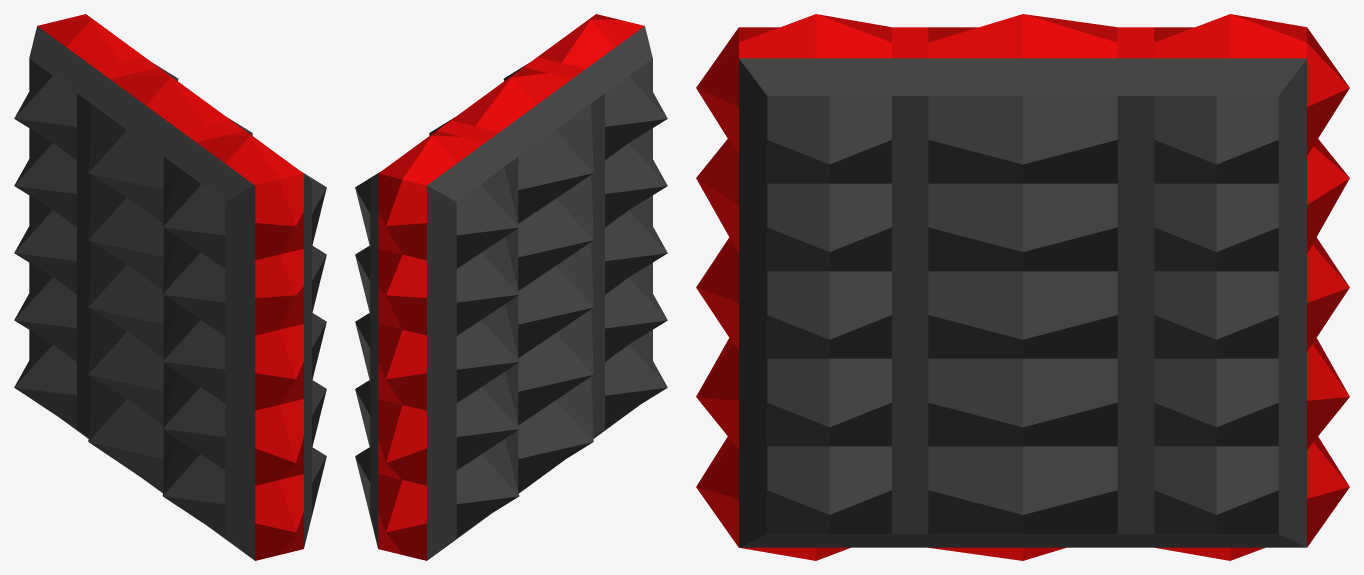
Rendered from Spiked Wall.fbx.
3 views of the same model, side by side, from view 1: azimuth 30°, elevation 25°; view 2: azimuth 150°, elevation 25°; view 3: azimuth 270°, elevation 25° (orthographic). The views are drawn at different scales.
Parts seen in each view (by area): view 1: polySurface10; view 2: polySurface10; view 3: polySurface10.
Part boxes in pixels (bbox=[...]): polySurface10: bbox=[14, 14, 326, 560]; polySurface10: bbox=[355, 14, 667, 560]; polySurface10: bbox=[696, 14, 1349, 560].
Size of the model in its own units: 2.61 by 6.37 by 6.9.
